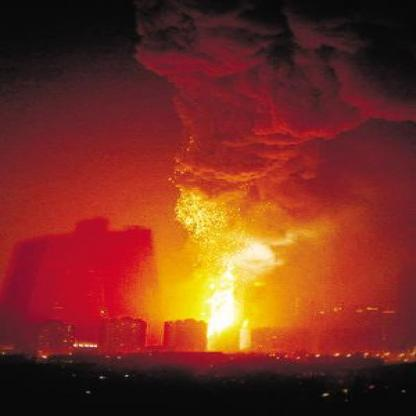fire: (164, 182, 288, 350)
smoke: (146, 19, 367, 189)
